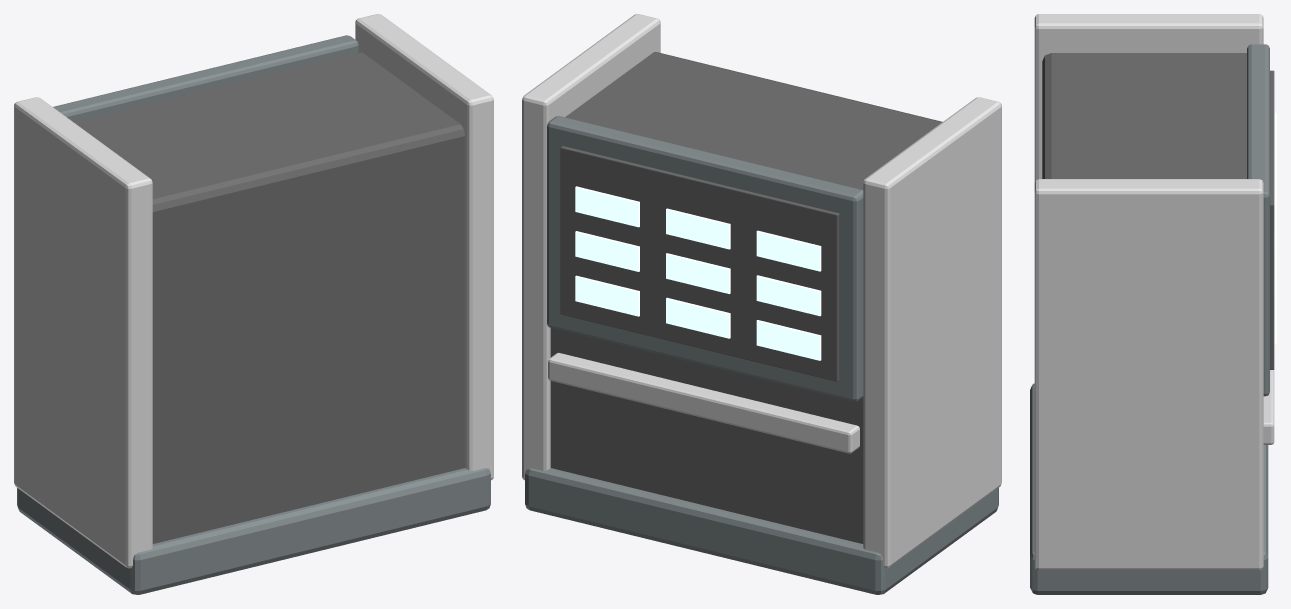
File: terminal.glb
The picture shows the model from 3 angles, left to right: view 1: azimuth 30°, elevation 25°; view 2: azimuth 150°, elevation 25°; view 3: azimuth 270°, elevation 25°; orthographic projection.
Parts seen in each view (by area): view 1: terminal_DarkPolymer, terminal_WhiteArmour, terminal_EdgeSteel; view 2: terminal_DarkPolymer, terminal_WhiteArmour, terminal_EdgeSteel, terminal_MintStatus; view 3: terminal_WhiteArmour, terminal_DarkPolymer, terminal_EdgeSteel, terminal_MintStatus.
Boxes of the visible parts, bbox=[...] form: terminal_DarkPolymer: bbox=[74, 52, 465, 543]; terminal_WhiteArmour: bbox=[14, 14, 493, 568]; terminal_EdgeSteel: bbox=[17, 35, 490, 594]; terminal_DarkPolymer: bbox=[550, 52, 942, 543]; terminal_WhiteArmour: bbox=[522, 14, 1001, 568]; terminal_EdgeSteel: bbox=[525, 116, 998, 594]; terminal_MintStatus: bbox=[575, 186, 821, 360]; terminal_WhiteArmour: bbox=[1034, 14, 1274, 570]; terminal_DarkPolymer: bbox=[1042, 53, 1274, 369]; terminal_EdgeSteel: bbox=[1030, 44, 1269, 594]; terminal_MintStatus: bbox=[1274, 112, 1276, 344].
Bounding box in the file's own units: 1.38 × 1.48 × 0.808.
